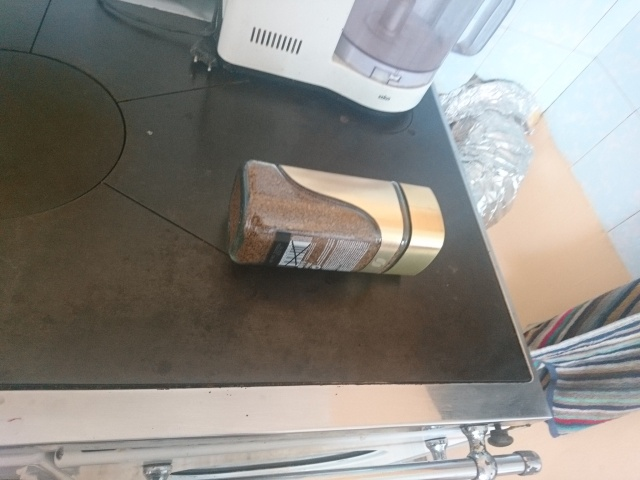Nescafe Gold 225g: (222, 155, 449, 280)
